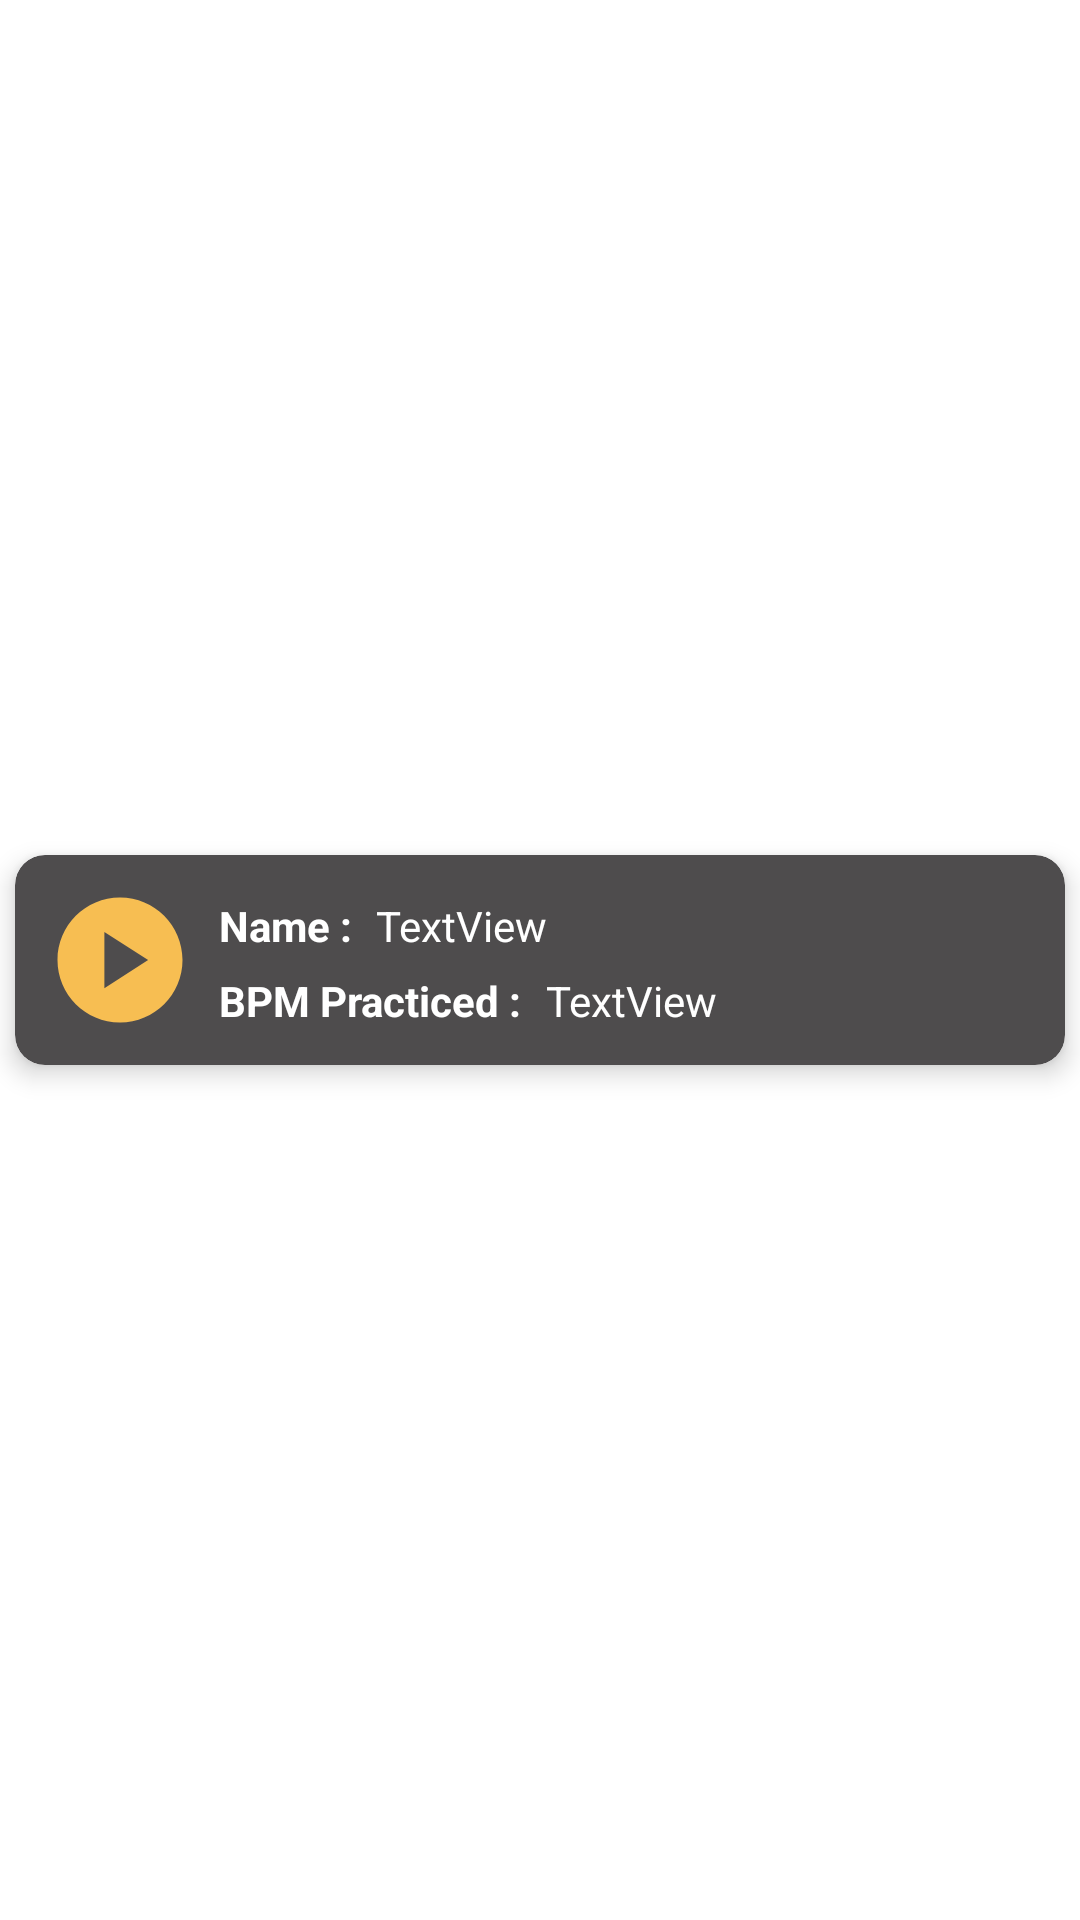

Where icons sit on this 1080px×1920px app screen, as (x1, y1, x2, y2):
play circle: (57, 897, 183, 1023)
